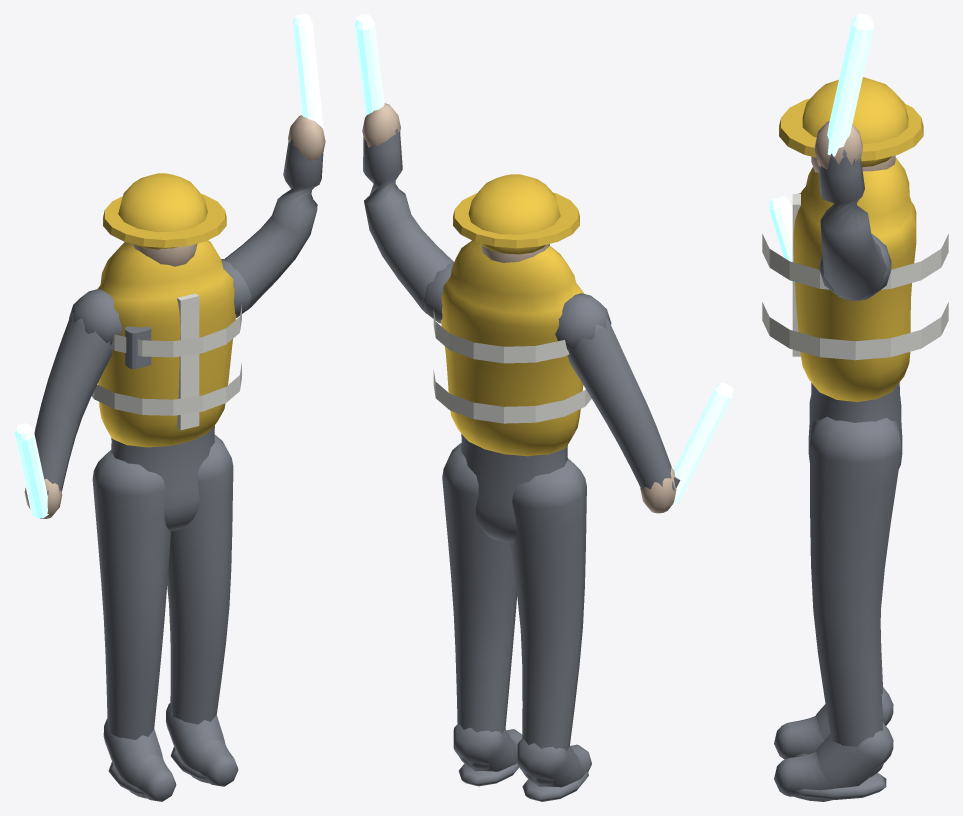
The model's file is warehouse-worker-detailed.glb.
3 views of the same model, side by side, from view 1: azimuth 30°, elevation 25°; view 2: azimuth 150°, elevation 25°; view 3: azimuth 270°, elevation 25° (orthographic). The views are drawn at different scales.
Visible parts, largest first — view 1: crane-banksman; view 2: crane-banksman; view 3: crane-banksman.
Boxes of the visible parts, x1,y1,x2,y2 form: crane-banksman: [14, 14, 325, 801]; crane-banksman: [354, 14, 733, 801]; crane-banksman: [762, 14, 948, 801].
Bounding box in the file's own units: 1.07 × 2.23 × 0.444.
